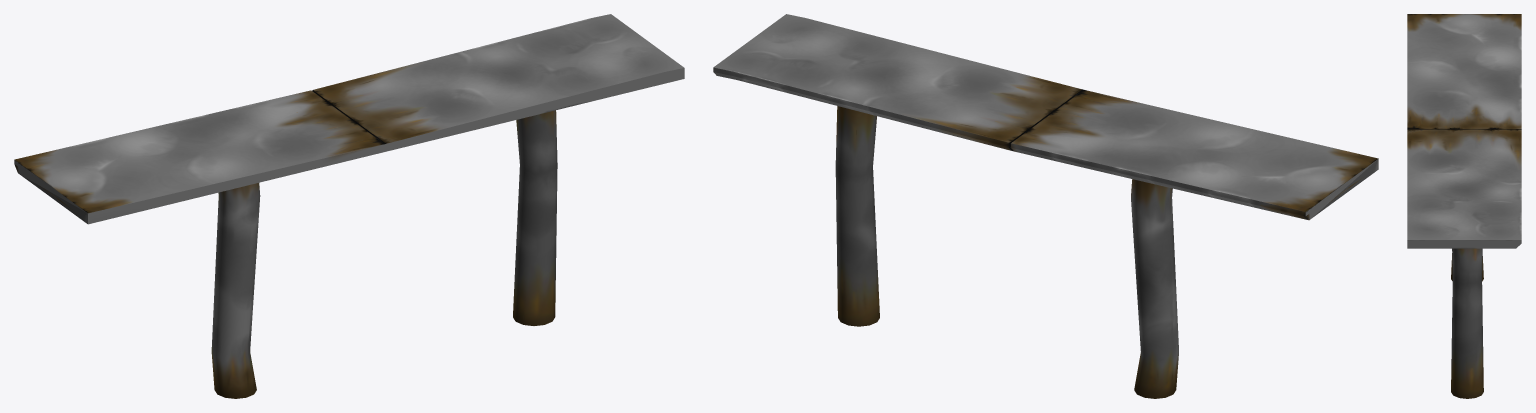
File: Table backside2.fbx
3 renders of one model, left to right at view 1: azimuth 30°, elevation 25°; view 2: azimuth 150°, elevation 25°; view 3: azimuth 270°, elevation 25°, orthographic. The views are drawn at different scales.
Visible parts, largest first — view 1: cabinet.001; view 2: cabinet.001; view 3: cabinet.001.
Boxes of the visible parts, x1,y1,x2,y2 form: cabinet.001: (14,14,684,398); cabinet.001: (713,14,1378,398); cabinet.001: (1407,14,1521,398).
Size of the model in its own units: 250 by 101 by 53.5.
Materials: 1 (1 with a texture image).
